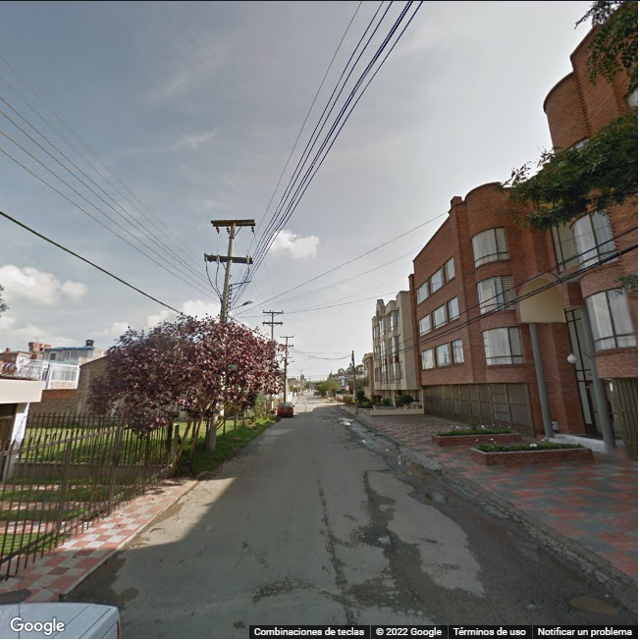D00: (390, 541, 425, 606)
D40: (560, 580, 628, 620), (247, 572, 300, 604)
